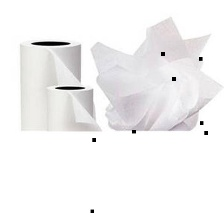tissue: (86, 11, 223, 130), (13, 31, 86, 130), (41, 78, 97, 130)
